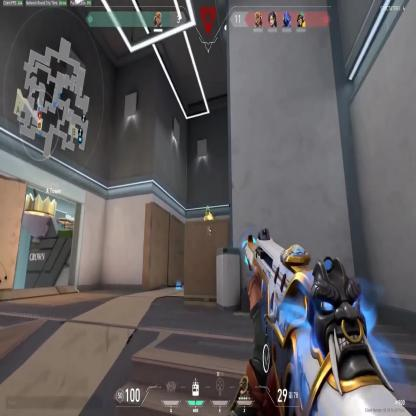enemy: (202, 205, 214, 261)
enemy_head: (206, 205, 210, 216)
